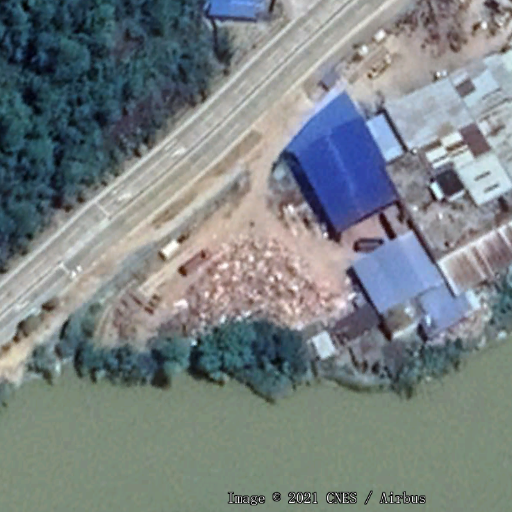msw: (171, 234, 340, 328)
